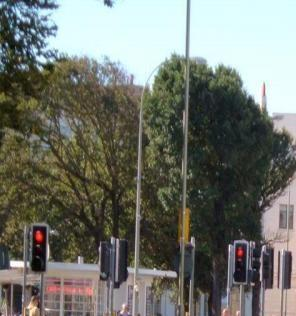red_light: (31, 223, 48, 272), (234, 241, 248, 285)
